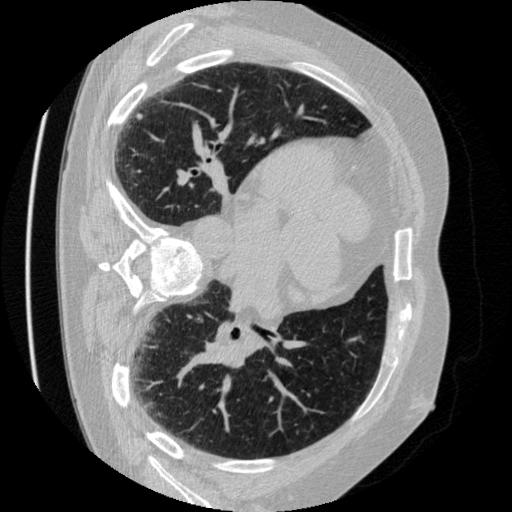nodule: (134, 112, 146, 124)
